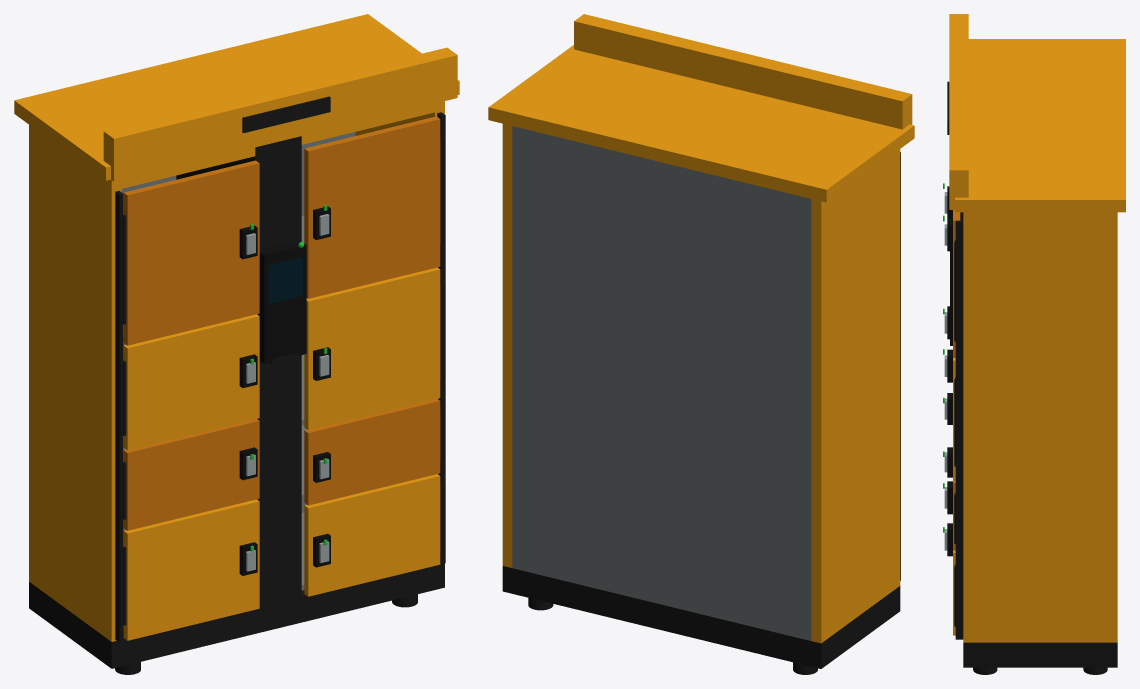
The picture shows the model from 3 angles, left to right: view 1: azimuth 30°, elevation 25°; view 2: azimuth 150°, elevation 25°; view 3: azimuth 270°, elevation 25°; orthographic projection. The views are drawn at different scales.
Parts seen in each view (by area): view 1: /Asset/Links/cabinet_enclosure/Visuals/left_side_wall/Geom, /Asset/Links/cabinet_enclosure/Visuals/canopy_cap/Geom, /Asset/Links/left_door_4/Visuals/door_panel/Geom, /Asset/Links/right_door_4/Visuals/door_panel/Geom, /Asset/Links/cabinet_enclosure/Visuals/header_fascia/Geom, /Asset/Links/right_door_3/Visuals/door_panel/Geom, /Asset/Links/cabinet_enclosure/Visuals/center_spine/Geom, /Asset/Links/left_door_1/Visuals/door_panel/Geom, /Asset/Links/left_door_3/Visuals/door_panel/Geom, /Asset/Links/right_door_1/Visuals/door_panel/Geom, /Asset/Links/cabinet_enclosure/Visuals/plinth/Geom, /Asset/Links/left_door_2/Visuals/door_panel/Geom (+9 smaller); view 2: /Asset/Links/cabinet_enclosure/Visuals/back_panel/Geom, /Asset/Links/cabinet_enclosure/Visuals/left_side_wall/Geom, /Asset/Links/cabinet_enclosure/Visuals/canopy_cap/Geom, /Asset/Links/cabinet_enclosure/Visuals/header_fascia/Geom, /Asset/Links/cabinet_enclosure/Visuals/plinth/Geom, /Asset/Links/cabinet_enclosure/Visuals/right_side_wall/Geom; view 3: /Asset/Links/cabinet_enclosure/Visuals/right_side_wall/Geom, /Asset/Links/cabinet_enclosure/Visuals/canopy_cap/Geom, /Asset/Links/cabinet_enclosure/Visuals/plinth/Geom, /Asset/Links/cabinet_enclosure/Visuals/right_hinge_rail/Geom, /Asset/Links/cabinet_enclosure/Visuals/header_fascia/Geom, /Asset/Links/cabinet_enclosure/Visuals/top_crossmember/Geom, /Asset/Links/right_door_4/Visuals/door_panel/Geom, /Asset/Links/right_door_4/Visuals/hinge_barrel/Geom.
Boxes of the visible parts, x1,y1,x2,y2 form: /Asset/Links/cabinet_enclosure/Visuals/left_side_wall/Geom: [29, 131, 121, 641]; /Asset/Links/cabinet_enclosure/Visuals/canopy_cap/Geom: [14, 14, 459, 180]; /Asset/Links/left_door_4/Visuals/door_panel/Geom: [123, 160, 259, 345]; /Asset/Links/right_door_4/Visuals/door_panel/Geom: [304, 116, 440, 298]; /Asset/Links/cabinet_enclosure/Visuals/header_fascia/Geom: [103, 47, 457, 181]; /Asset/Links/right_door_3/Visuals/door_panel/Geom: [304, 267, 440, 430]; /Asset/Links/cabinet_enclosure/Visuals/center_spine/Geom: [176, 136, 301, 605]; /Asset/Links/left_door_1/Visuals/door_panel/Geom: [123, 499, 259, 640]; /Asset/Links/left_door_3/Visuals/door_panel/Geom: [123, 314, 259, 450]; /Asset/Links/right_door_1/Visuals/door_panel/Geom: [304, 474, 440, 596]; /Asset/Links/cabinet_enclosure/Visuals/plinth/Geom: [29, 563, 444, 668]; /Asset/Links/left_door_2/Visuals/door_panel/Geom: [123, 419, 259, 530]; /Asset/Links/cabinet_enclosure/Visuals/back_panel/Geom: [512, 126, 811, 640]; /Asset/Links/cabinet_enclosure/Visuals/left_side_wall/Geom: [811, 155, 900, 643]; /Asset/Links/cabinet_enclosure/Visuals/canopy_cap/Geom: [488, 45, 914, 202]; /Asset/Links/cabinet_enclosure/Visuals/header_fascia/Geom: [574, 14, 912, 129]; /Asset/Links/cabinet_enclosure/Visuals/plinth/Geom: [502, 566, 900, 668]; /Asset/Links/cabinet_enclosure/Visuals/right_side_wall/Geom: [502, 123, 512, 567]; /Asset/Links/cabinet_enclosure/Visuals/right_side_wall/Geom: [963, 222, 1117, 642]; /Asset/Links/cabinet_enclosure/Visuals/canopy_cap/Geom: [955, 39, 1125, 212]; /Asset/Links/cabinet_enclosure/Visuals/plinth/Geom: [963, 642, 1117, 667]; /Asset/Links/cabinet_enclosure/Visuals/right_hinge_rail/Geom: [955, 220, 963, 639]; /Asset/Links/cabinet_enclosure/Visuals/header_fascia/Geom: [949, 14, 968, 209]; /Asset/Links/cabinet_enclosure/Visuals/top_crossmember/Geom: [963, 212, 1117, 222]; /Asset/Links/right_door_4/Visuals/door_panel/Geom: [953, 210, 960, 357]; /Asset/Links/right_door_4/Visuals/hinge_barrel/Geom: [954, 241, 956, 341].
Size of the model in its own units: 1.38 by 2.06 by 0.663.
